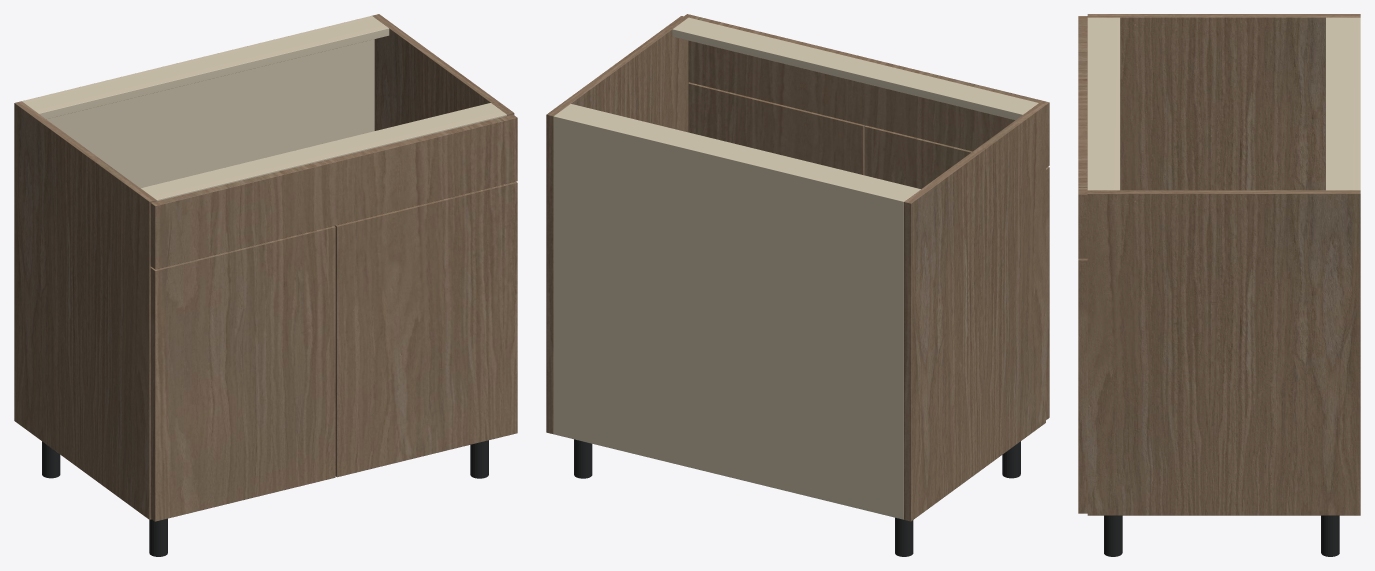
File: oppein-ply-mnw-sb36.glb
The picture shows the model from 3 angles, left to right: view 1: azimuth 30°, elevation 25°; view 2: azimuth 150°, elevation 25°; view 3: azimuth 270°, elevation 25°; orthographic projection.
Parts seen in each view (by area): view 1: Door, Door.001, Cabinet side, Cabinet back, False drawer front, Top support rail, Cabinet side.001, Top support rail.001, Adjustable foot.001, Adjustable foot.003; view 2: Cabinet back, Cabinet side, False drawer front, Cabinet side.001, Door.001, Top support rail.001, Door, Top support rail, Adjustable foot, Adjustable foot.002; view 3: Cabinet side.001, Cabinet side, Top support rail.001, Top support rail, Door.001, False drawer front, Cabinet back, Adjustable foot.003, Adjustable foot.002.
Part boxes in pixels (x1,y1,x2,y2): Door: (150,226,335,521); Door.001: (335,181,517,477); Cabinet side: (14,101,156,519); Cabinet back: (21,15,374,188); False drawer front: (150,114,517,269); Top support rail: (23,17,389,119); Cabinet side.001: (372,14,514,130); Top support rail.001: (141,103,506,201); Adjustable foot.001: (149,518,167,556); Adjustable foot.003: (470,440,488,478); Cabinet back: (553,114,905,519); Cabinet side: (904,103,1045,521); False drawer front: (684,14,1049,167); Cabinet side.001: (546,16,688,434); Door.001: (688,82,865,175); Top support rail.001: (672,17,1038,120); Door: (864,125,1049,419); Top support rail: (556,104,920,199); Adjustable foot: (895,517,913,556); Adjustable foot.002: (574,439,592,478); Cabinet side.001: (1087,190,1360,515); Cabinet side: (1087,14,1360,190); Top support rail.001: (1087,17,1120,190); Top support rail: (1325,17,1357,190); Door.001: (1078,258,1087,513); False drawer front: (1078,16,1087,258); Cabinet back: (1355,17,1360,190); Adjustable foot.003: (1104,515,1122,556); Adjustable foot.002: (1321,515,1339,556).
Bounding box in the file's own units: 0.9144 × 0.8763 × 0.6064.
Materials: 3 (1 with a texture image).
